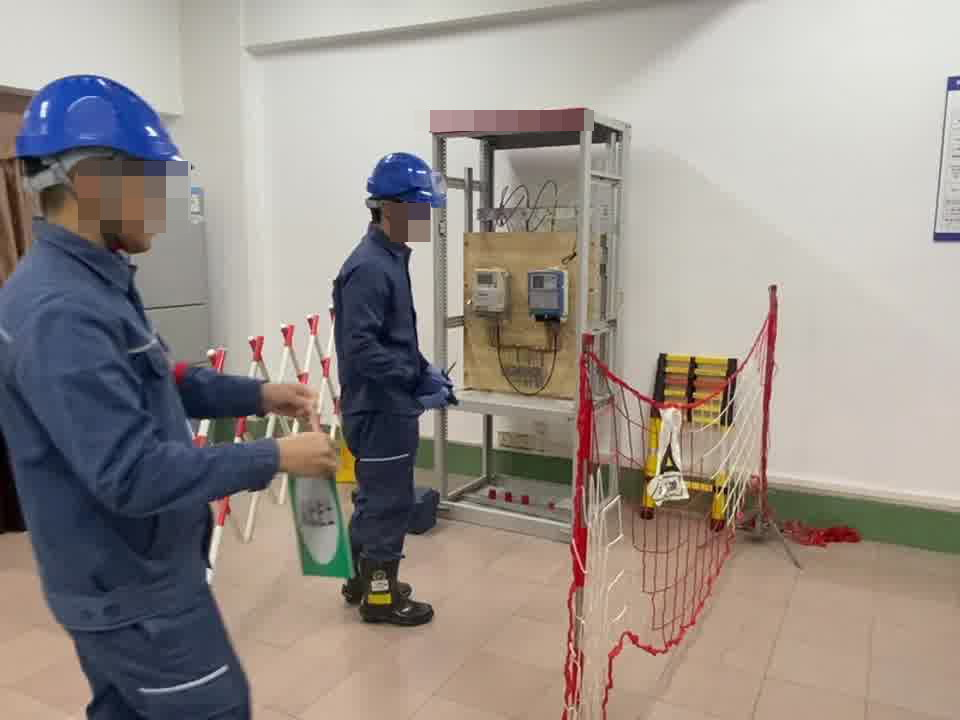downsuit: (59, 600, 264, 720), (344, 412, 427, 571)
glove: (414, 371, 457, 410)
halt: (8, 75, 197, 256), (364, 151, 449, 242)
hand: (274, 430, 340, 476), (256, 372, 319, 419)
inear: (50, 150, 130, 226), (378, 197, 409, 227)
intosign: (290, 471, 346, 579)
person: (1, 75, 320, 719), (310, 146, 461, 626)
shoe: (339, 552, 435, 624)
upsuit: (1, 235, 283, 628), (332, 233, 445, 412)
